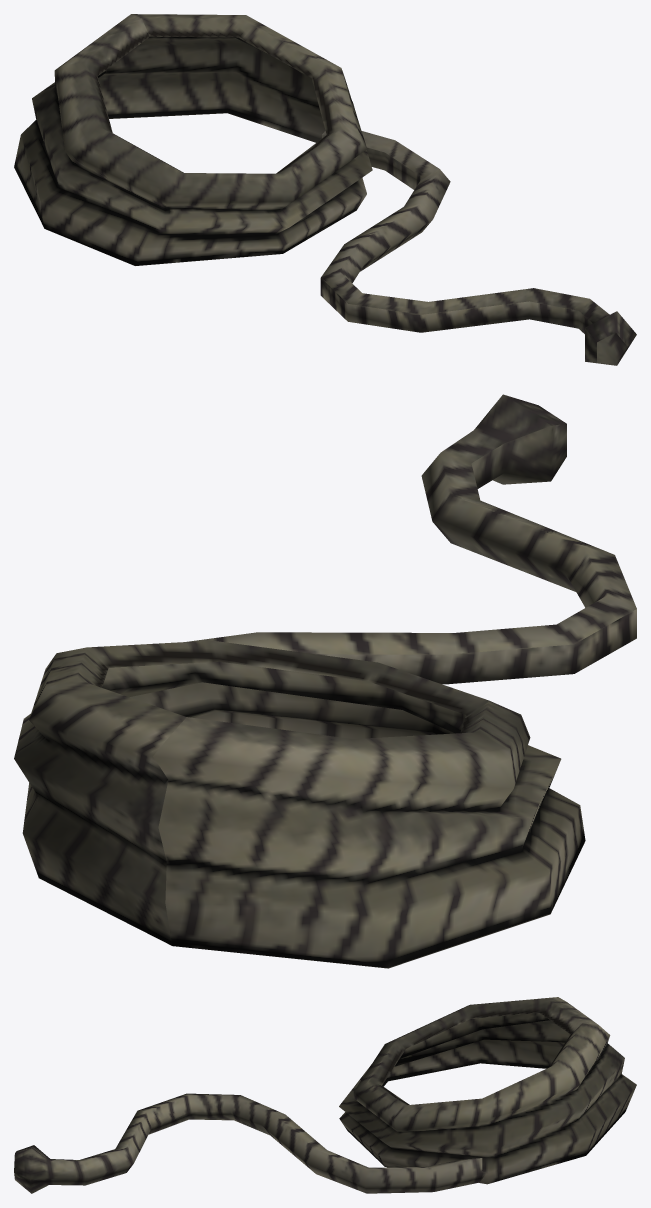
File: GAM_LootThread.FBX
3 views of the same model, one above another, from view 1: azimuth 30°, elevation 25°; view 2: azimuth 150°, elevation 25°; view 3: azimuth 270°, elevation 25° (orthographic). The views are drawn at different scales.
Parts seen in each view (by area): view 1: GAM_LootThread; view 2: GAM_LootThread; view 3: GAM_LootThread.
Part boxes in pixels (x1,y1,x2,y2): GAM_LootThread: (14,14,636,365); GAM_LootThread: (14,394,636,968); GAM_LootThread: (14,997,636,1193).
Size of the model in its own units: 57.43 by 22.35 by 111.
Materials: 1 (1 with a texture image).
